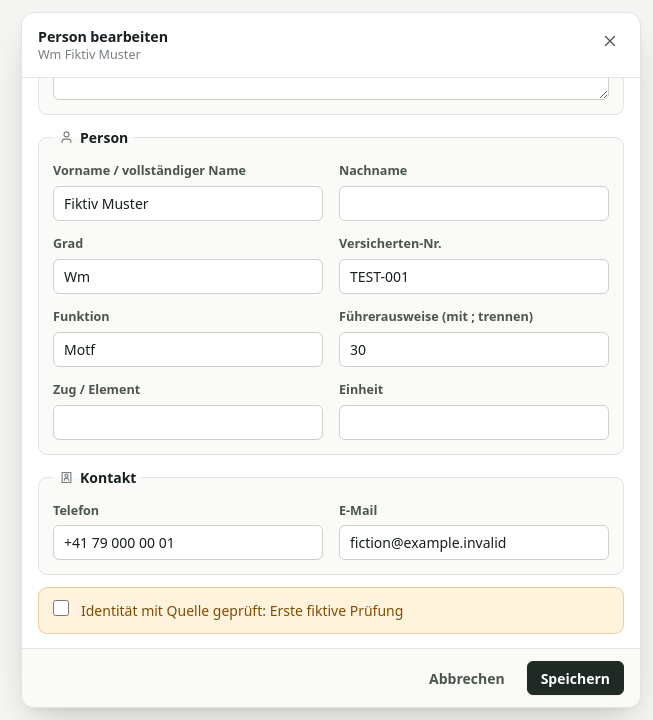
Scenario: person editing alongside a live planning board › does not clear an identity-review warning that changed after opening
(page scrolled)
Click the checkbox labelled "Identität mit Quelle geprüft: Erste fiktive Prüfung": (61, 608) [53,600,69,616]
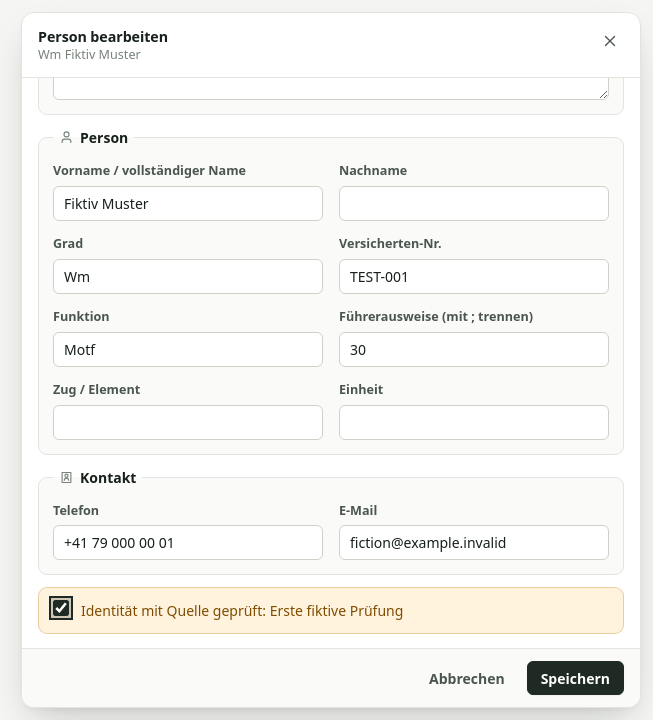
Click the button "Speichern": (575, 678) [527,661,624,695]
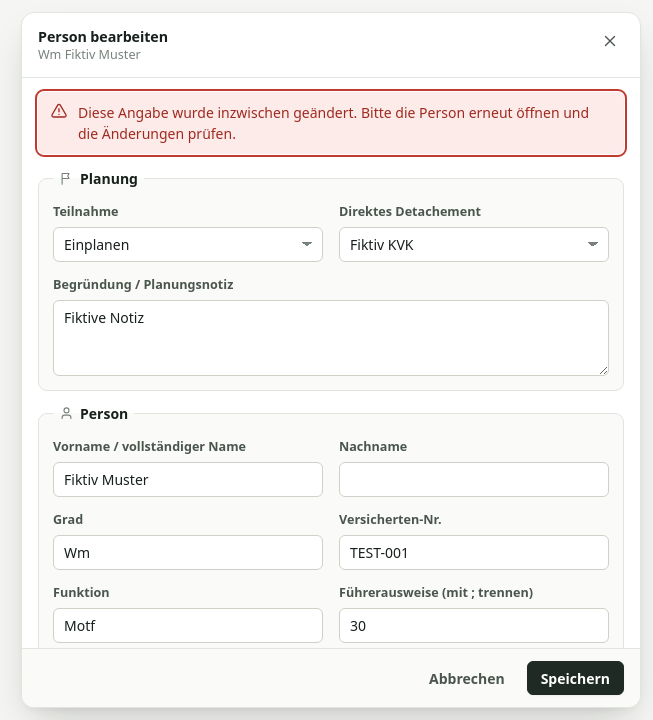
Now the message shows "inzwischen geändert", box [78,103,589,143]
